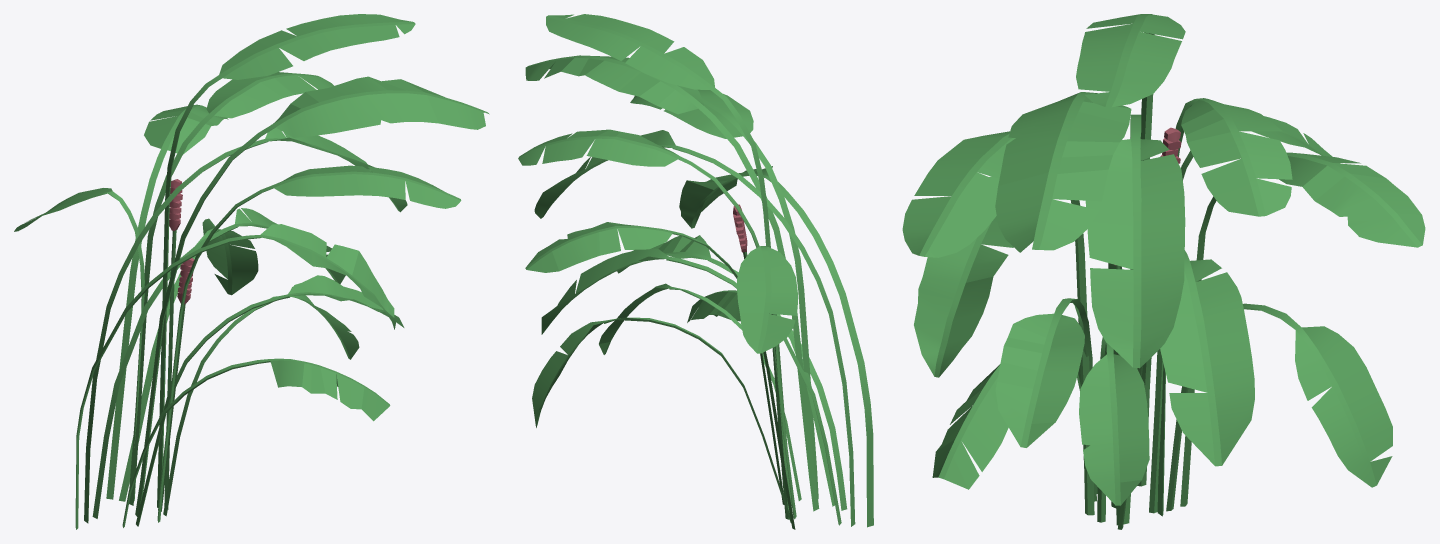
Rendered from plant_palm_C.fbx.
The picture shows the model from 3 angles, left to right: view 1: azimuth 30°, elevation 25°; view 2: azimuth 150°, elevation 25°; view 3: azimuth 270°, elevation 25°; orthographic projection. The views are drawn at different scales.
Visible parts, largest first — view 1: plant_palm_C, palm_C_fruit_stem1; view 2: plant_palm_C, palm_C_fruit_stem1; view 3: plant_palm_C.
Boxes of the visible parts, left/top/right/bottom form: plant_palm_C: left=14, top=14, right=489, bottom=529; palm_C_fruit_stem1: left=164, top=229, right=176, bottom=509; plant_palm_C: left=518, top=14, right=873, bottom=529; palm_C_fruit_stem1: left=743, top=252, right=784, bottom=504; plant_palm_C: left=902, top=14, right=1425, bottom=524.
Bounding box in the file's own units: 173 × 189 × 151.
